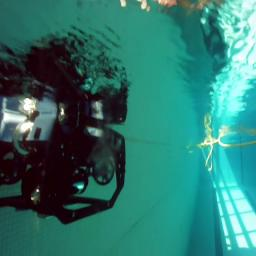front: (0, 114, 125, 226)
